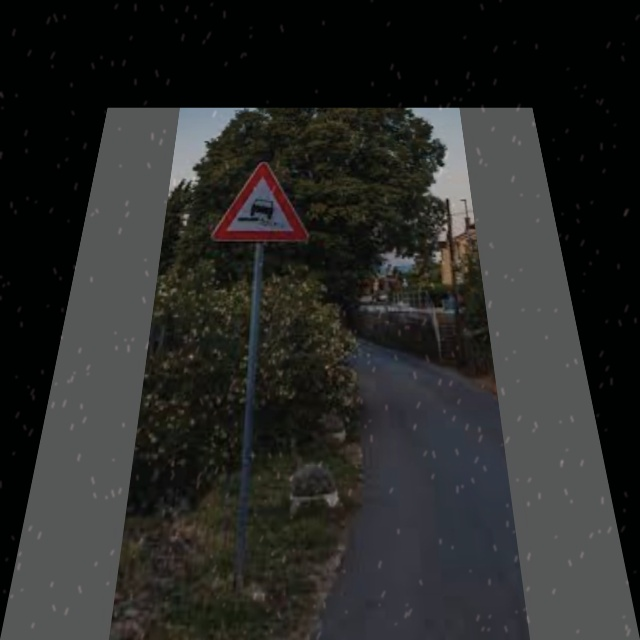Loose_Gravel: (211, 161, 307, 246)
